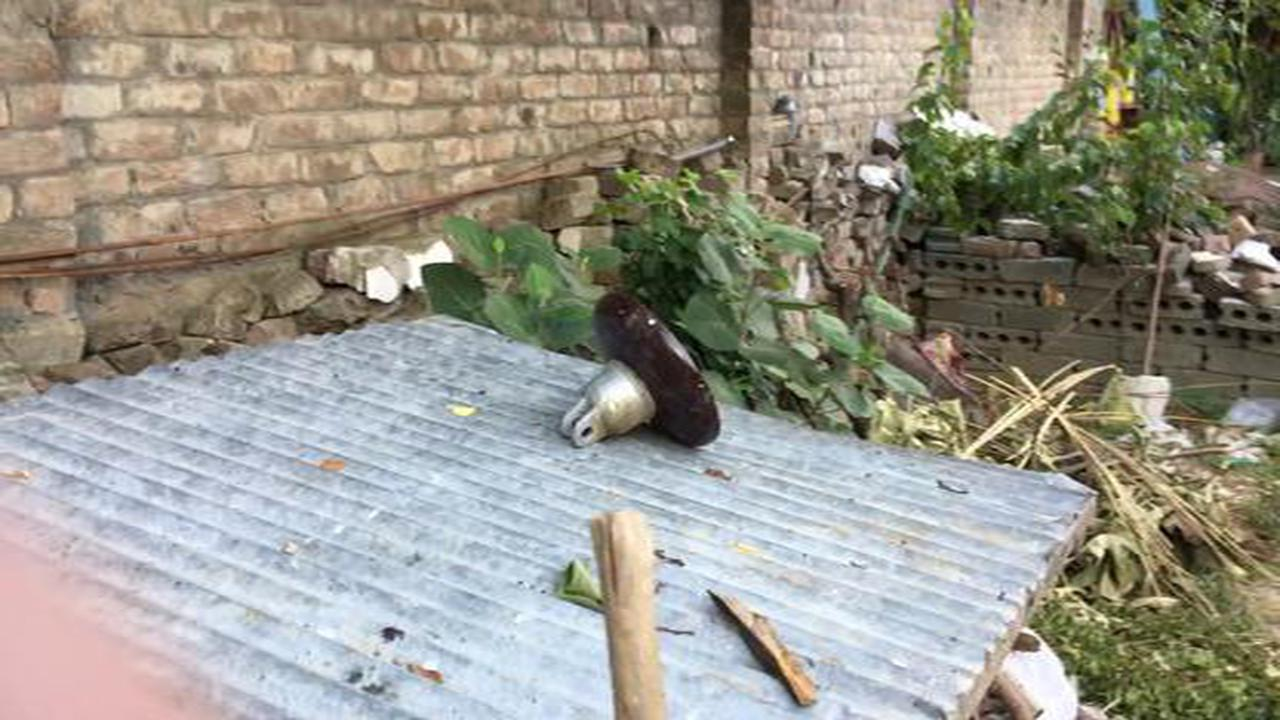insulator_disc: (554, 283, 727, 461)
